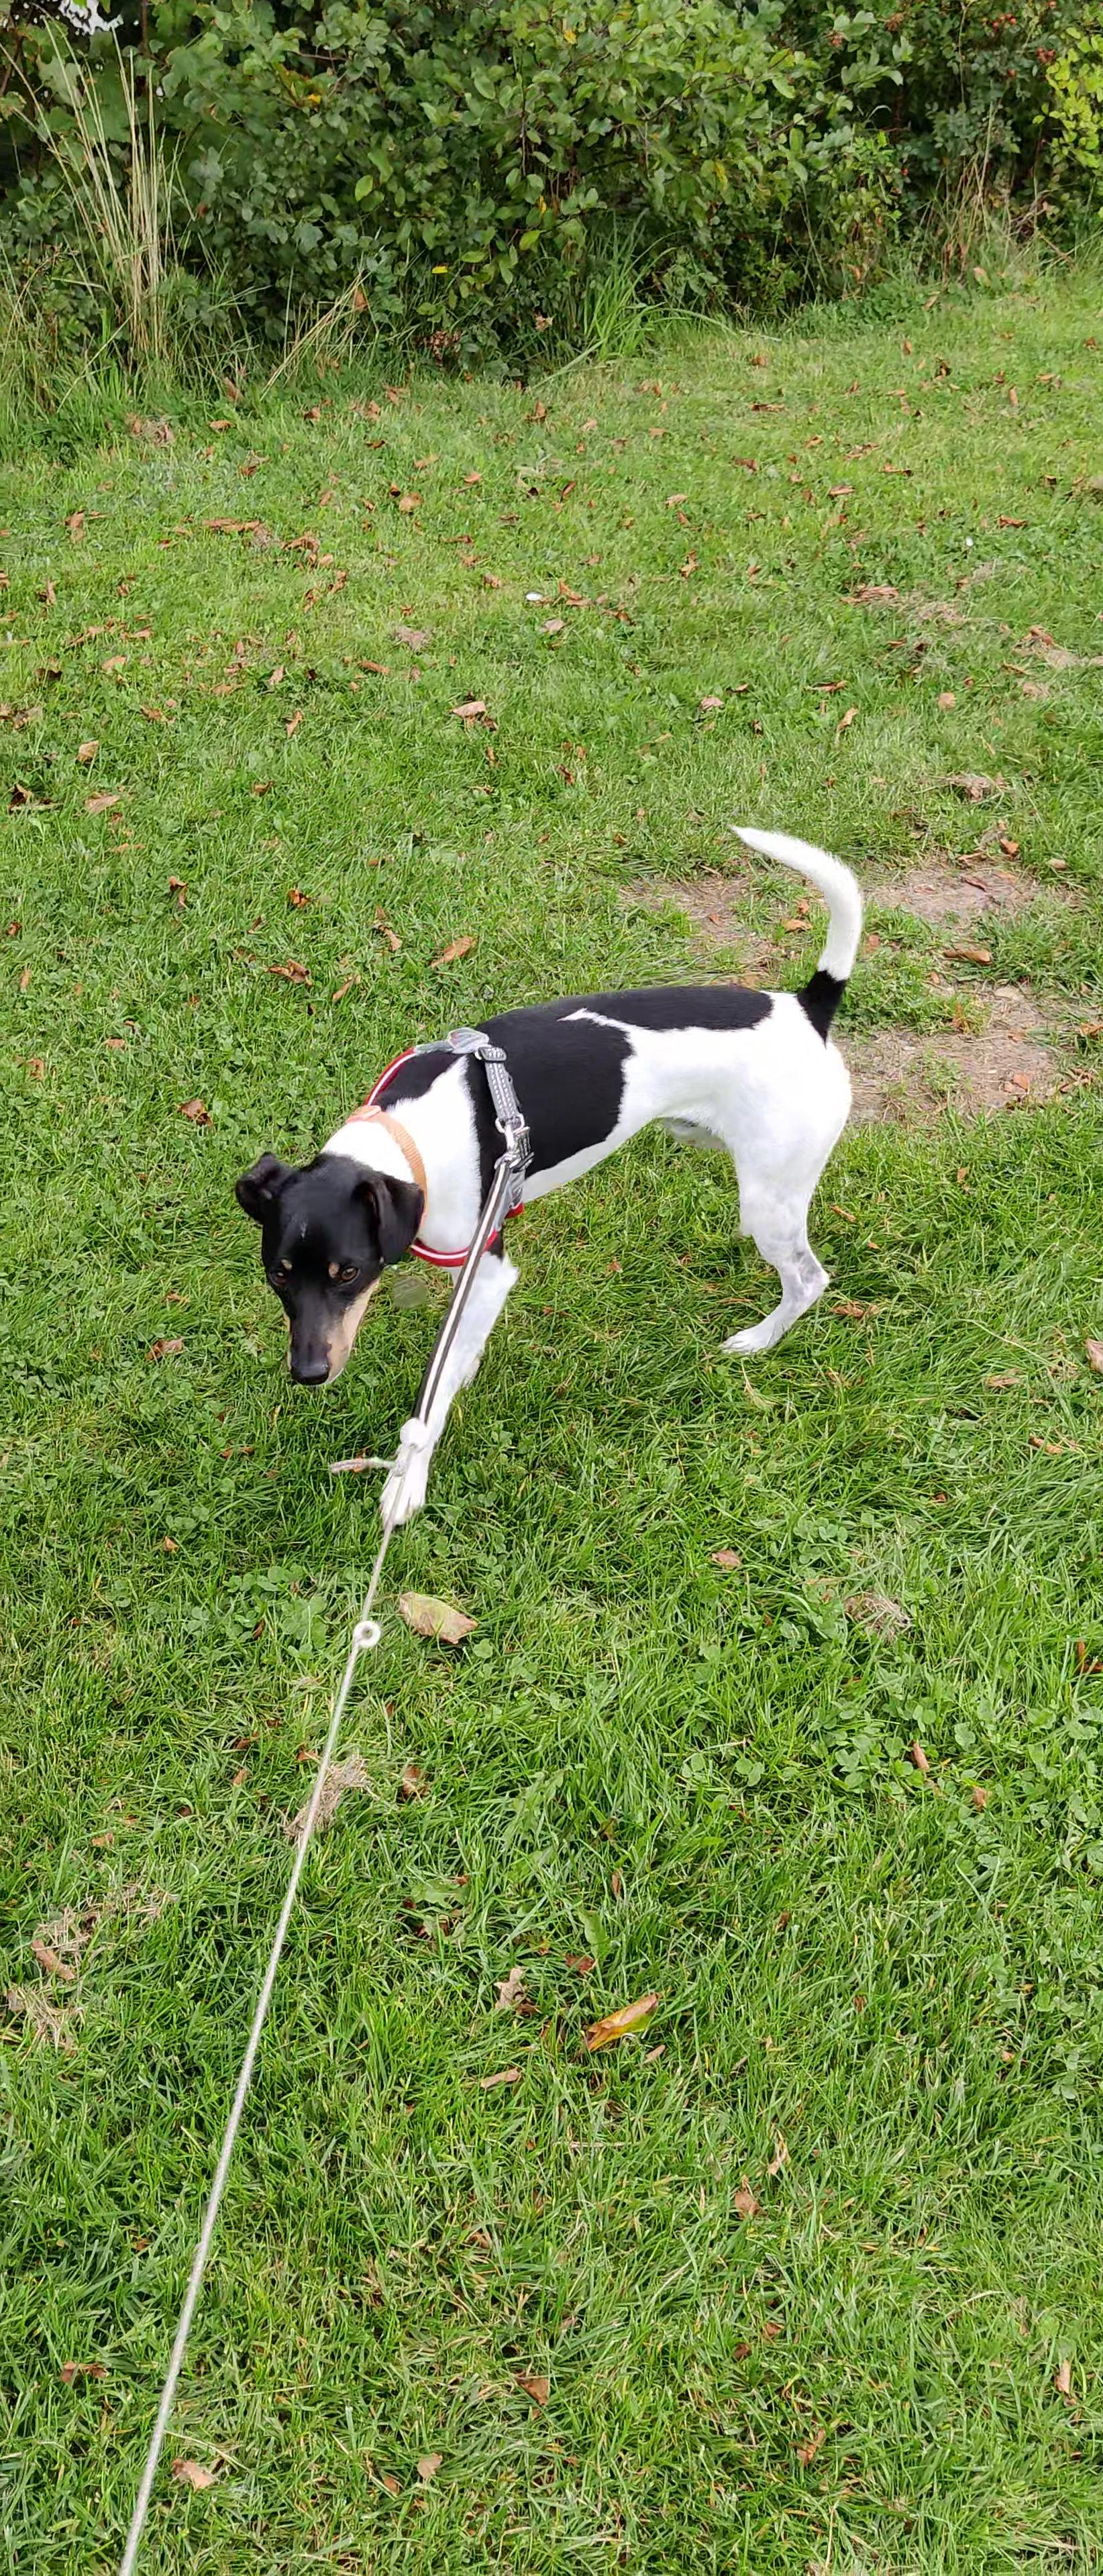Dog: (232, 818, 868, 1528)
